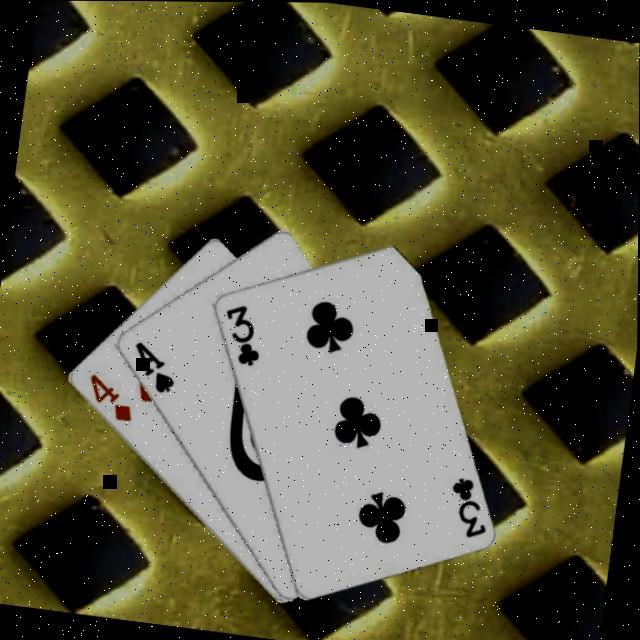3C: (215, 299, 267, 369), (442, 473, 494, 542)
4D: (80, 370, 138, 426)
AS: (125, 337, 179, 397)
